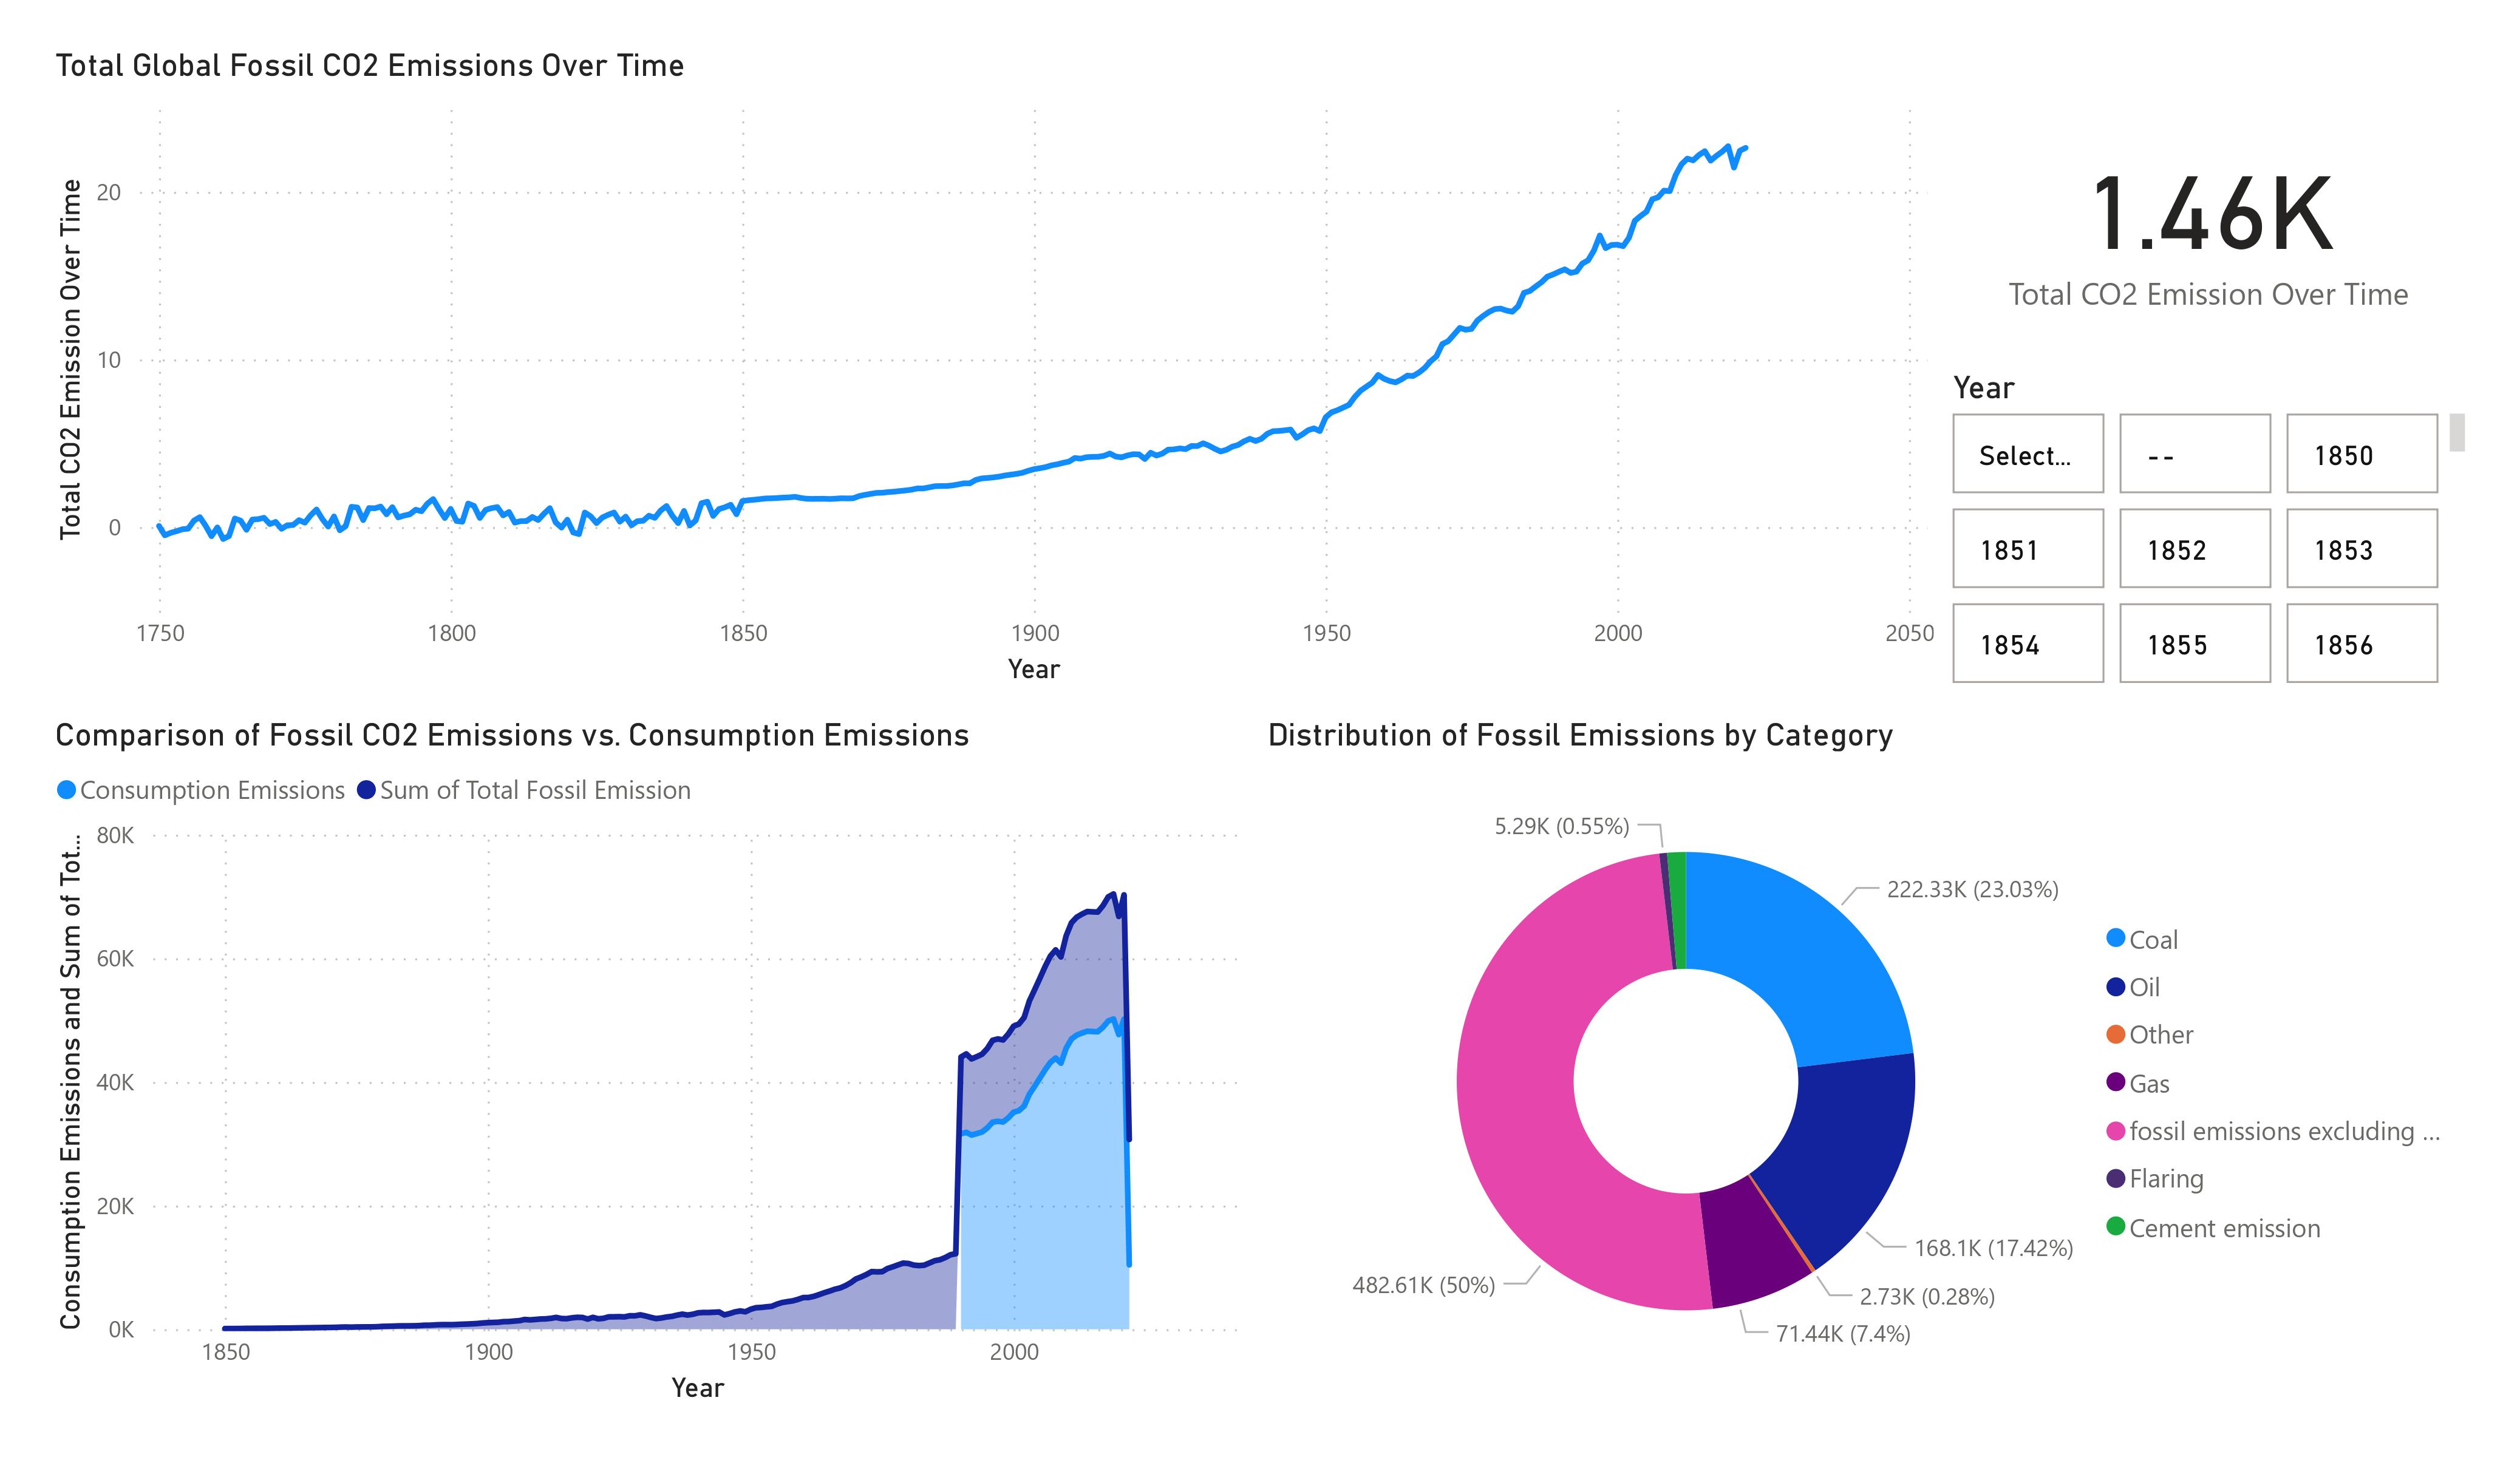

This screenshot's page, from the dashboard's own definition file:
{"tool":"powerbi","page":{"name":"Key Features ","canvas":[1280,720],"ordinal":2},"visuals":[{"type":"card","fields":{"Values":["Key Features.Total CO2 Emission Over Time"]},"box":[1000.3,0,279.9,183.9],"z":0},{"type":"lineChart","title":"Total Global Fossil CO2 Emissions Over Time","fields":{"Y":["Key Features.Total CO2 Emission Over Time"],"Category":["Historical Budget.Year"]},"box":[0,0,1000.3,341.7],"z":1000},{"type":"stackedAreaChart","title":"Comparison of Fossil CO2 Emissions vs. Consumption Emissions","fields":{"Category":["Fossil Emissions by Category.Year"],"Y":["Sum(Consumption Emissions.Consumption Emissions)","Sum(Fossil Emissions by Category.Total Fossil Emission)"]},"box":[0,352.7,639.5,367.8],"z":2000},{"type":"donutChart","title":"Distribution of Fossil Emissions by Category","fields":{"Y":["Sum(Fossil Emissions by Category.Coal)","Sum(Fossil Emissions by Category.Oil)","Sum(Fossil Emissions by Category.Other)","Sum(Fossil Emissions by Category.Gas)","Sum(Fossil Emissions by Category.fossil emissions excluding carbonation)","Sum(Fossil Emissions by Category.Flaring)","Sum(Fossil Emissions by Category.Cement emission)"]},"box":[639.5,352.7,640.8,367.8],"z":3000},{"type":"advancedSlicerVisual","fields":{"Values":["Fossil Emissions by Category.Year"]},"box":[1000.3,170.2,279.9,171.5],"z":4000}]}

Visuals, with their boxes on the page's 1280x720 design canvas (x1, y1, x2, y2). These are canvas units, not pixel positions in the 2520x1457 screenshot, which may show the page scaled, cropped or inside an application window:
card - Key Features.Total CO2 Emission Over Time: locate(1000, 0, 1280, 184)
"Total Global Fossil CO2 Emissions Over Time" lineChart: locate(0, 0, 1000, 342)
"Comparison of Fossil CO2 Emissions vs. Consumption Emissions" stackedAreaChart: locate(0, 353, 640, 720)
"Distribution of Fossil Emissions by Category" donutChart: locate(640, 353, 1280, 720)
advancedSlicerVisual - Fossil Emissions by Category.Year: locate(1000, 170, 1280, 342)
